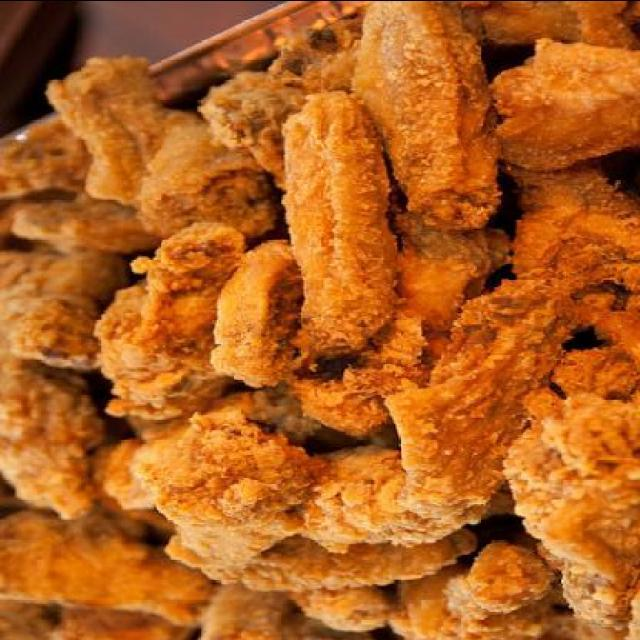Deep fried chicken wing: (14, 18, 626, 618)
